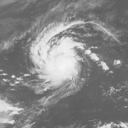cyclone: (31, 21, 83, 90)
